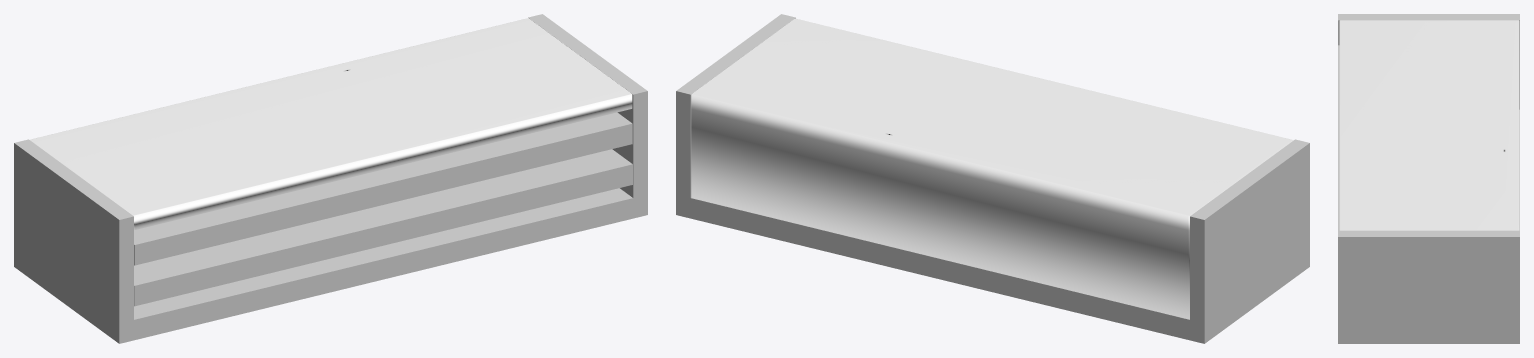
The model's file is Vidriera.fbx.
3 views of the same model, side by side, from view 1: azimuth 30°, elevation 25°; view 2: azimuth 150°, elevation 25°; view 3: azimuth 270°, elevation 25° (orthographic). The views are drawn at different scales.
Visible parts, largest first — view 1: Cube.003, Cube; view 2: Cube, Cube.003; view 3: Cube, Cube.003.
Part boxes in pixels (left/top/right/bottom): Cube.003: left=14, top=14, right=647, bottom=343; Cube: left=30, top=18, right=632, bottom=229; Cube: left=691, top=18, right=1293, bottom=319; Cube.003: left=676, top=14, right=1309, bottom=343; Cube: left=1339, top=20, right=1519, bottom=230; Cube.003: left=1338, top=14, right=1519, bottom=343.
Bounding box in the file's own units: 544 × 122 × 188.
Materials: 2 (1 with a texture image).
